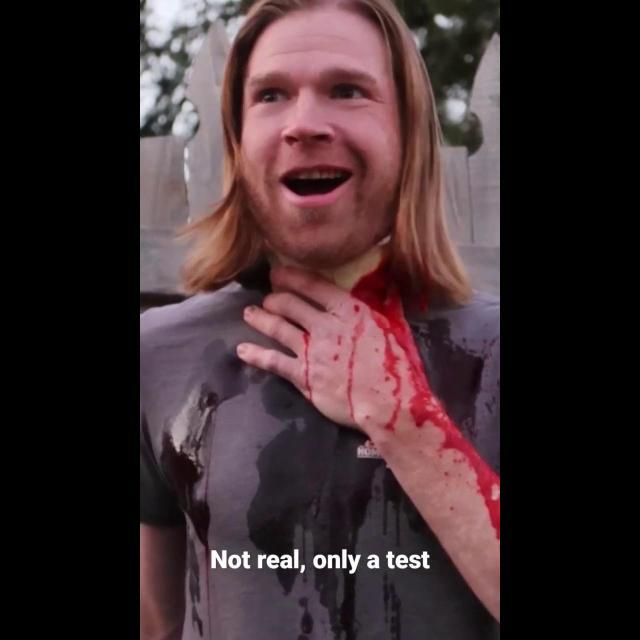blood: (351, 257, 500, 531), (334, 296, 364, 430), (298, 330, 318, 407)
